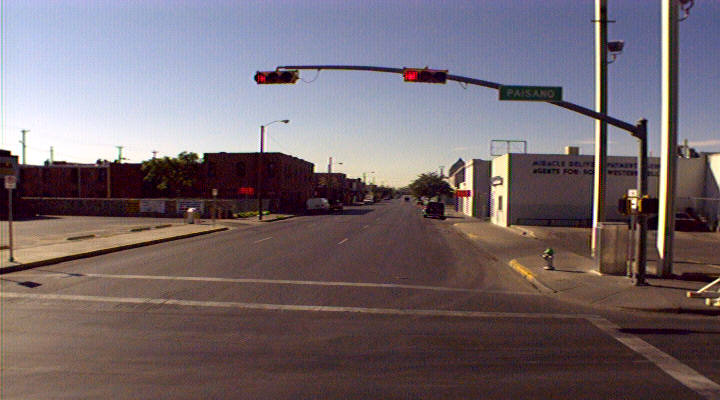Ramp: (520, 271, 690, 316)
